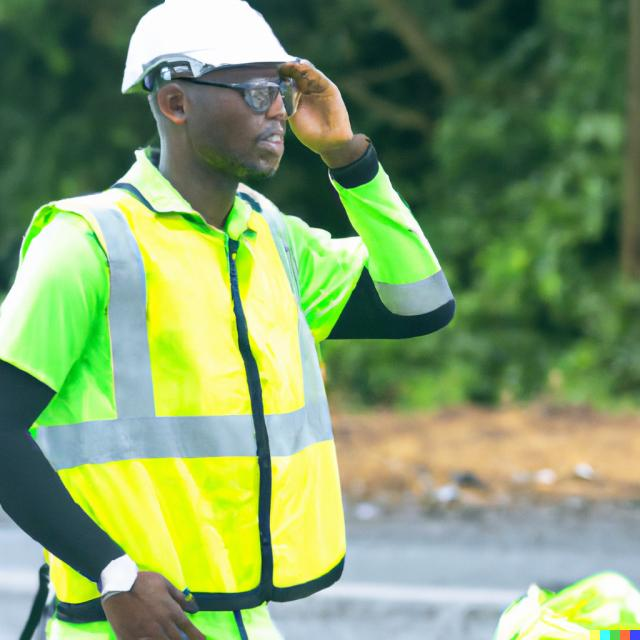Reflective-Jacket: (8, 166, 353, 636), (487, 567, 640, 640)
Safety-Helmet: (120, 1, 304, 96)
